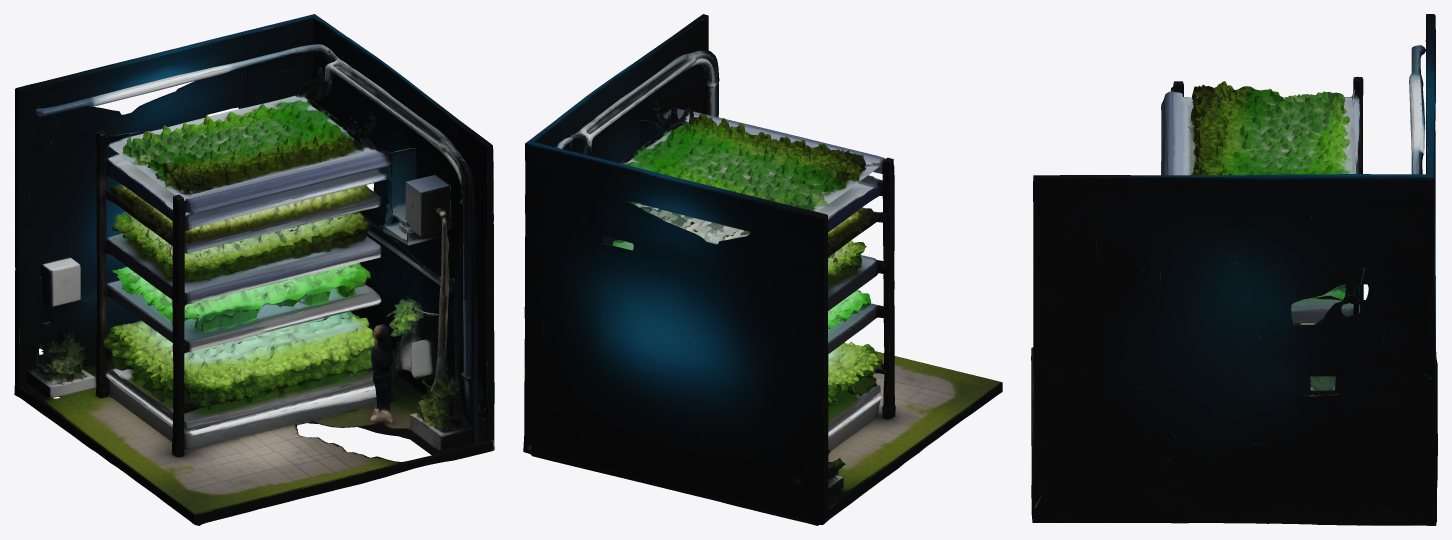
Rendered from hidroponik.glb.
3 views of the same model, side by side, from view 1: azimuth 30°, elevation 25°; view 2: azimuth 150°, elevation 25°; view 3: azimuth 270°, elevation 25° (orthographic). The views are drawn at different scales.
Visible parts, largest first — view 1: world; view 2: world; view 3: world.
Boxes of the visible parts, x1,y1,x2,y2 form: world: (14, 14, 494, 525); world: (523, 14, 1002, 525); world: (1031, 14, 1437, 525).
Size of the model in its own units: 0.9661 by 0.9572 by 1.
Materials: 1 (1 with a texture image).
